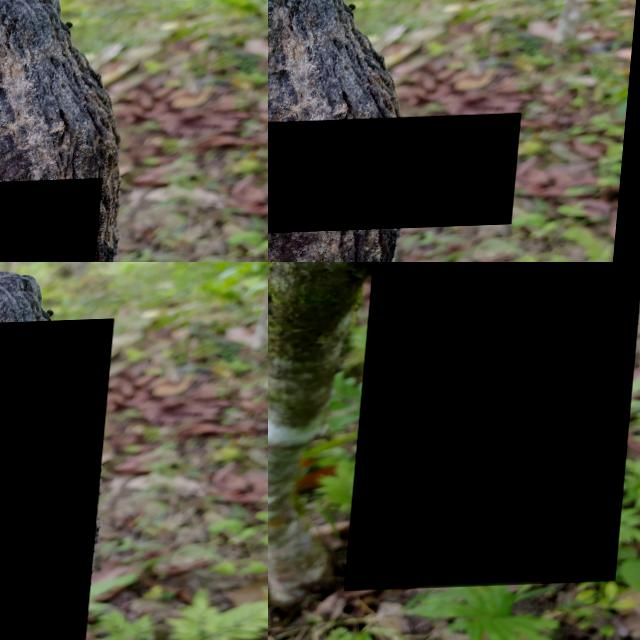Fitoftora: (354, 262, 640, 592), (0, 322, 116, 640)
Monilia: (268, 117, 524, 239)
